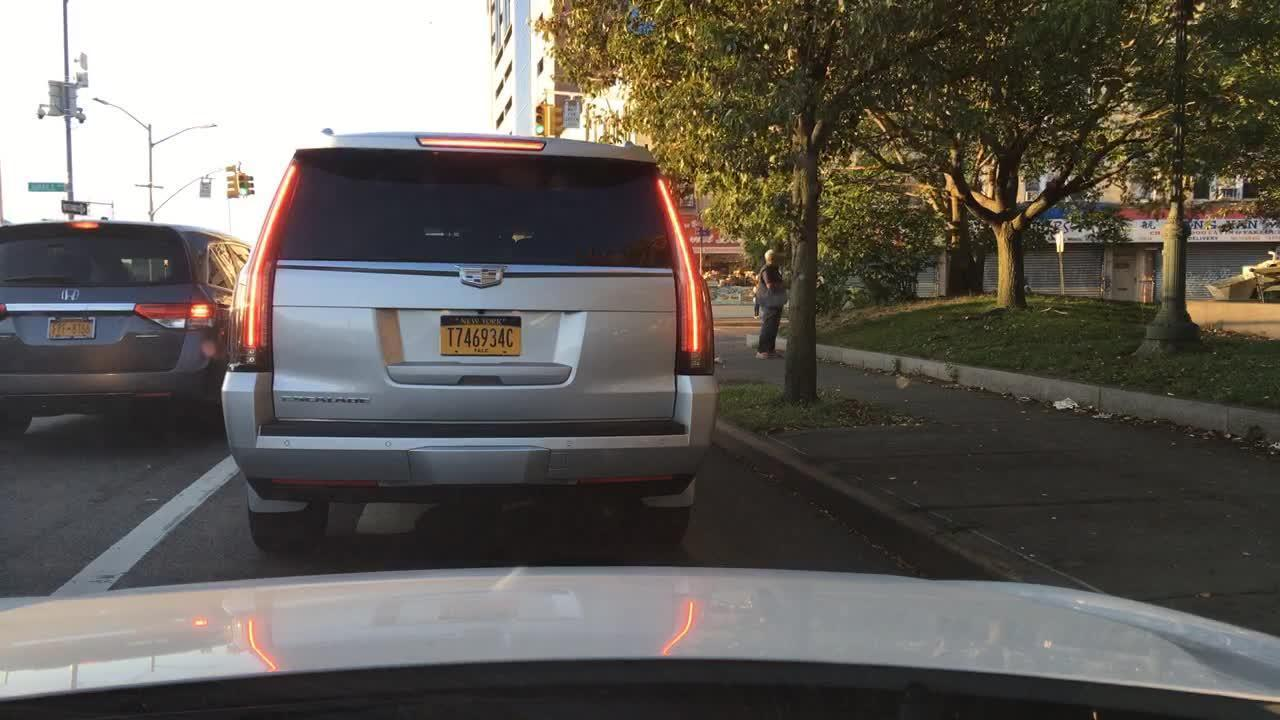Honda: (57, 283, 80, 308)
cadillac: (454, 264, 508, 288)
